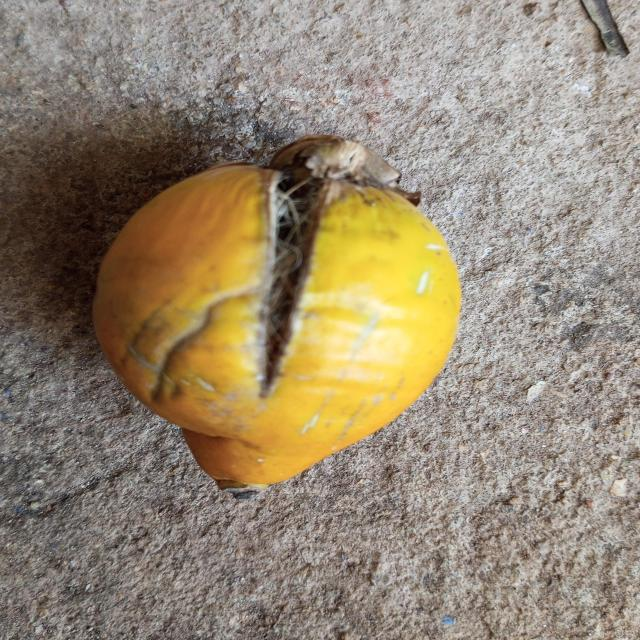damaged: (93, 135, 461, 498)
